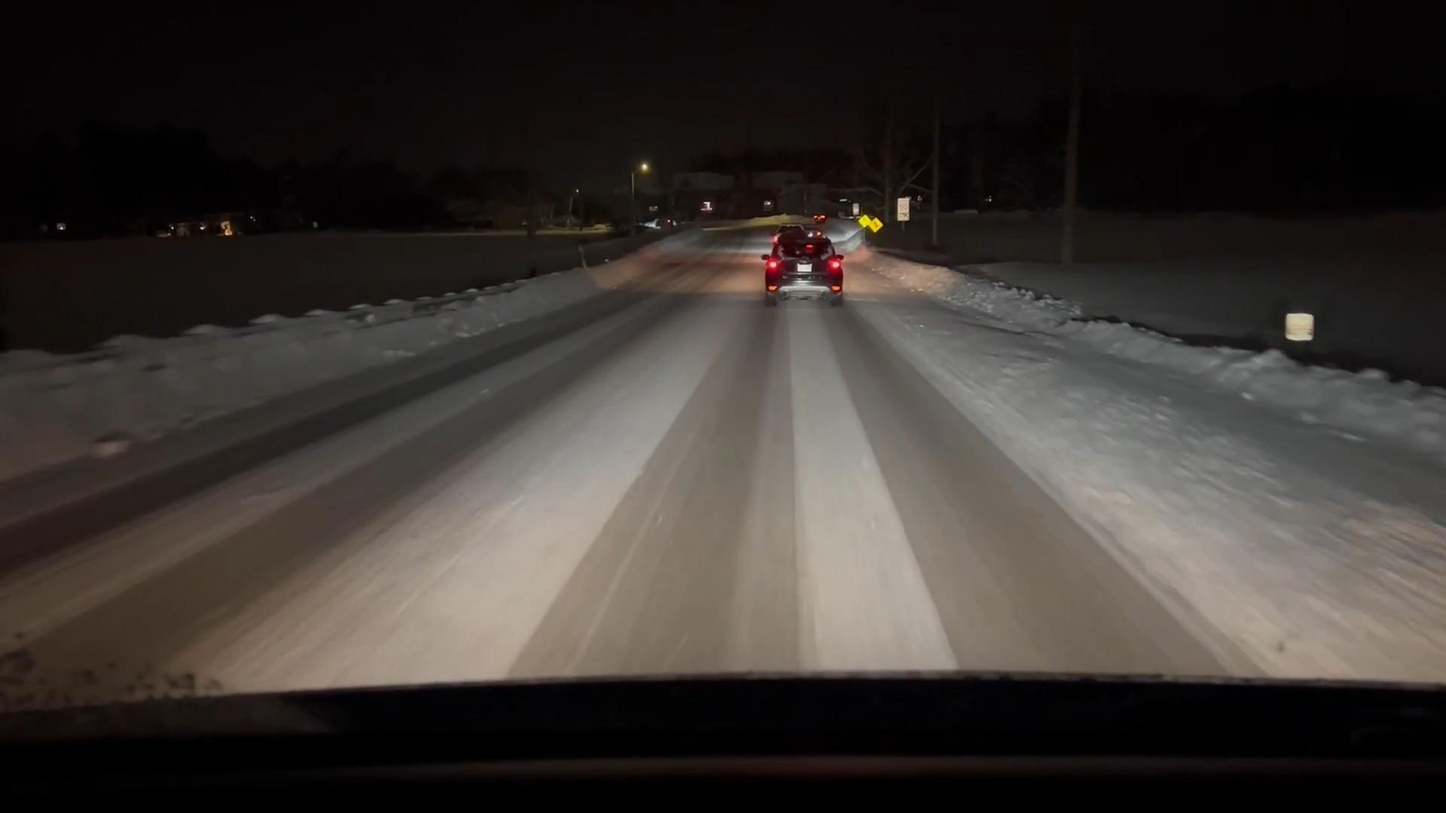Snow: (0, 217, 1446, 700)
